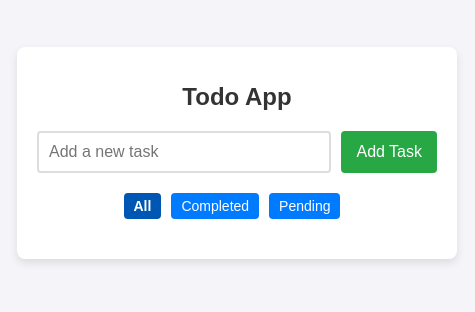
Test: Todo App with localStorage and TaskList › deletes a task
In the field with placeholder "Add a new task": (184, 152) left=37, top=131, right=332, bottom=173, type "Test Task"
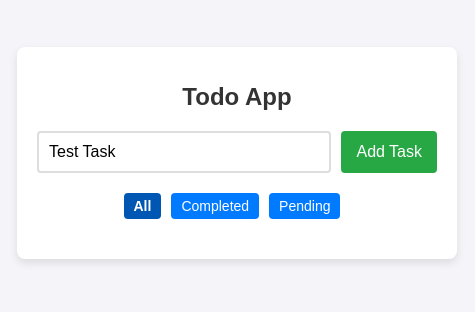
Click the button "Add Task": (389, 152) left=342, top=131, right=437, bottom=173
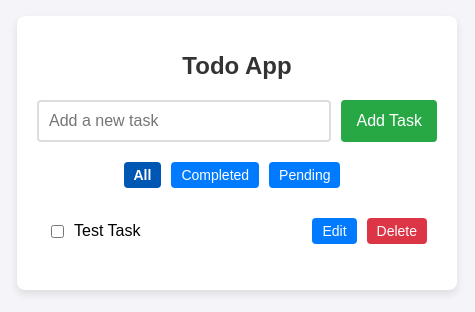
Click the button "Delete": (397, 231) left=366, top=218, right=427, bottom=244
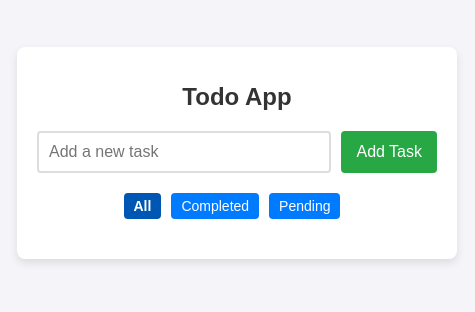
Result: the text "Test Task" is gone
